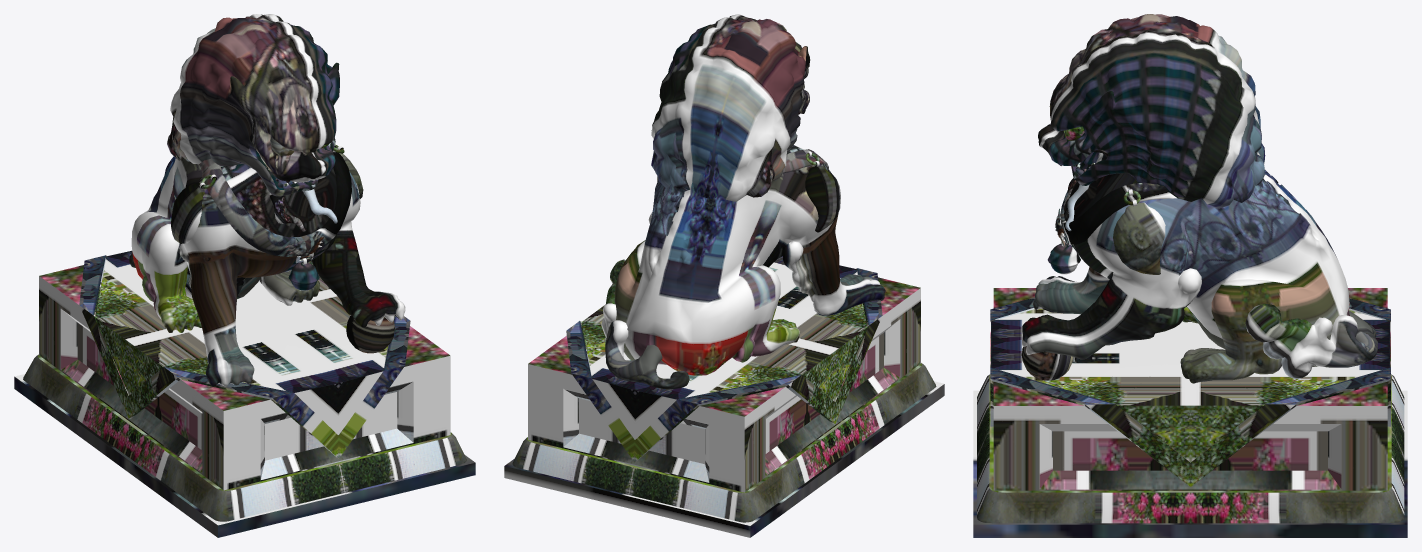
3 renders of one model, left to right at view 1: azimuth 30°, elevation 25°; view 2: azimuth 150°, elevation 25°; view 3: azimuth 270°, elevation 25°, orthographic. The views are drawn at different scales.
Visible parts, largest first — view 1: ssz_2; view 2: ssz_2; view 3: ssz_2.
Part boxes in pixels (left/top/right/bottom): ssz_2: left=14, top=14, right=475, bottom=537; ssz_2: left=504, top=14, right=944, bottom=537; ssz_2: left=973, top=14, right=1407, bottom=537.
Size of the model in its own units: 69.46 by 109 by 95.1.
